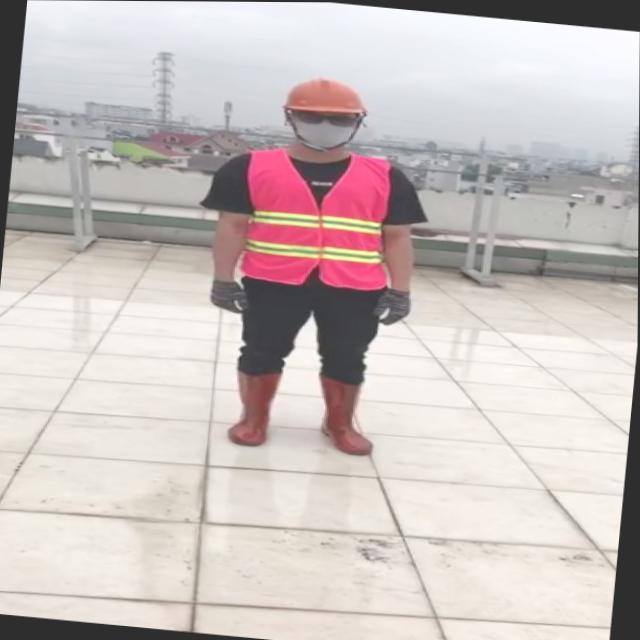goggles_on: (290, 104, 361, 129)
